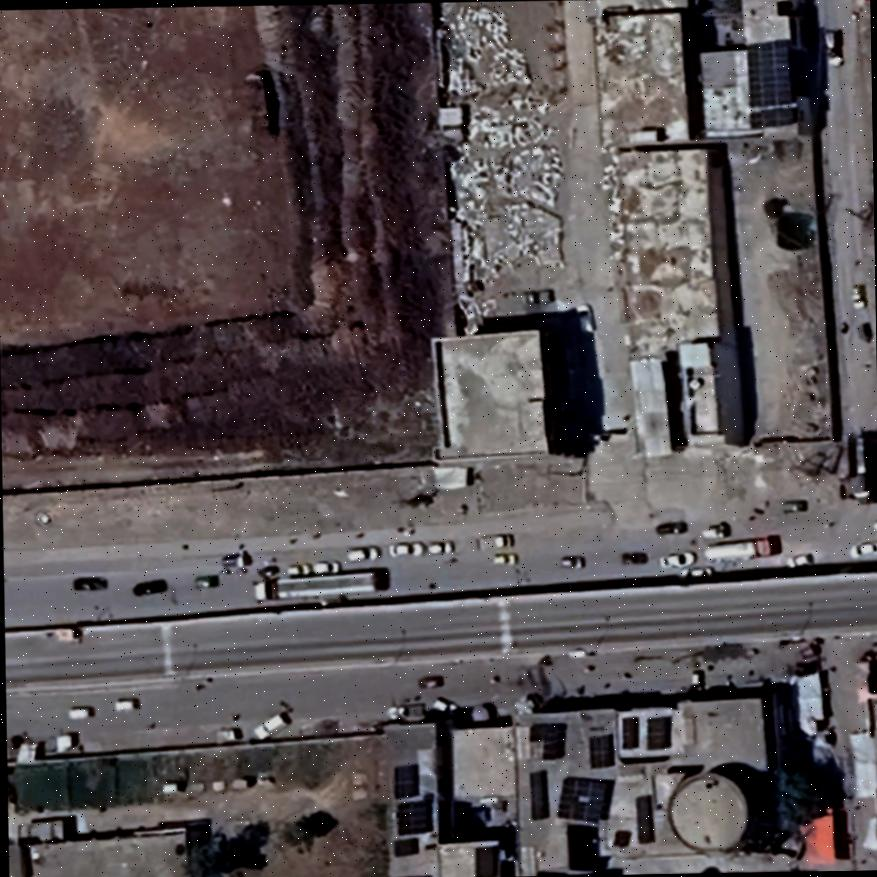Solarpanel: (744, 33, 803, 130), (389, 756, 437, 859), (550, 766, 618, 827), (642, 706, 677, 753), (632, 789, 659, 846), (523, 772, 551, 825), (586, 727, 616, 770), (616, 707, 640, 754), (608, 823, 634, 852)
